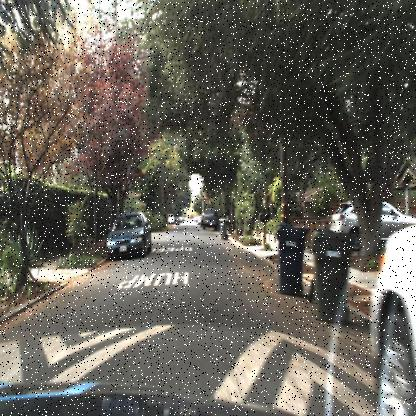car: (368, 220, 416, 416), (314, 191, 416, 241), (327, 194, 413, 252), (104, 207, 158, 262), (200, 206, 221, 230), (166, 213, 176, 228)
